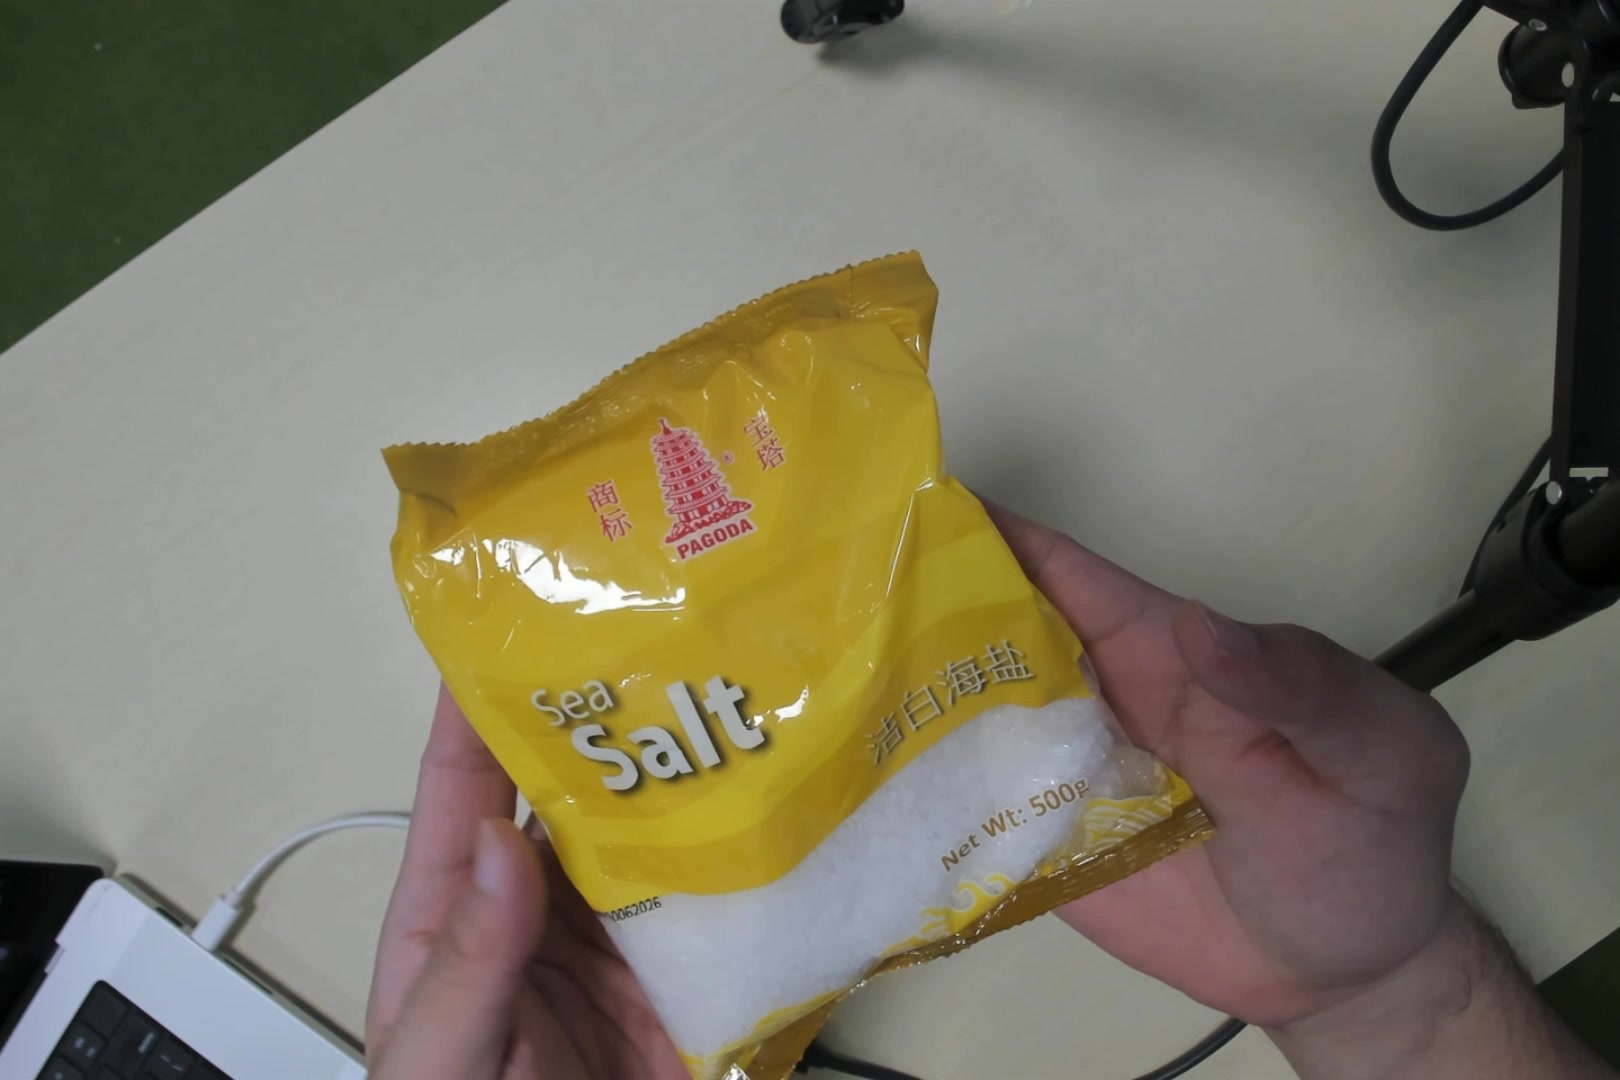Salt_500-599g_Halal_NonHealthy: (499, 329, 1109, 978)
